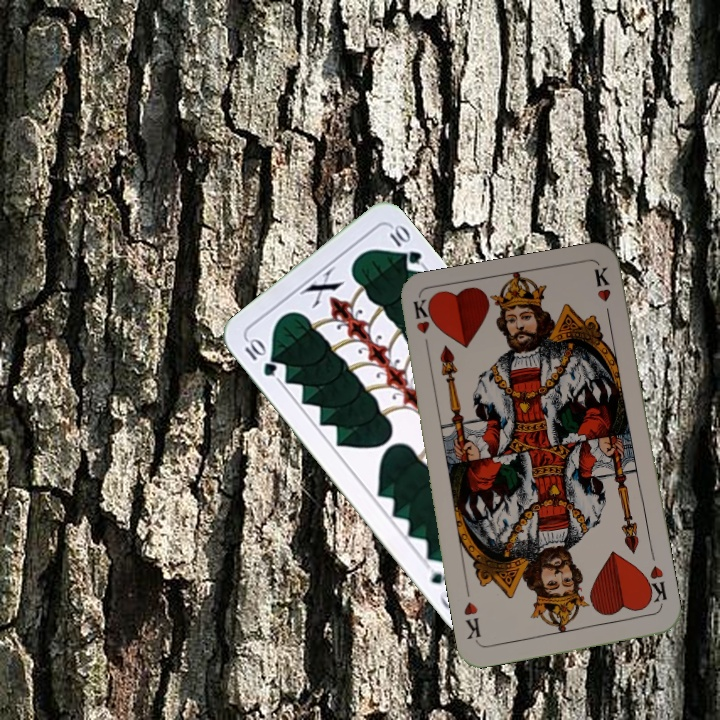G10: (240, 334, 280, 379)
HK: (409, 296, 434, 356), (639, 561, 669, 610)
